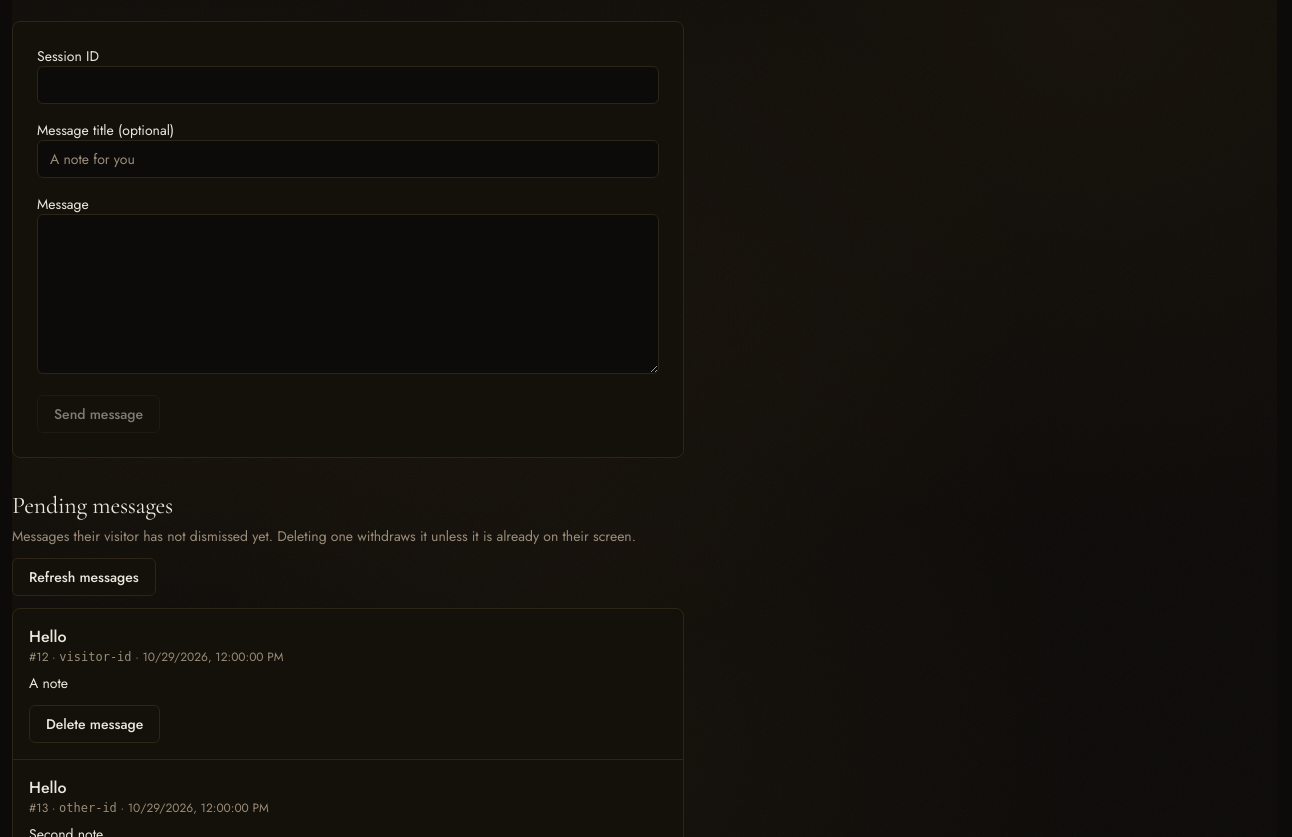
it: lists pending messages and deletes one after confirmation
Click the button "Delete message" at (95, 724), box [29,705,160,743]
(page scrolled)
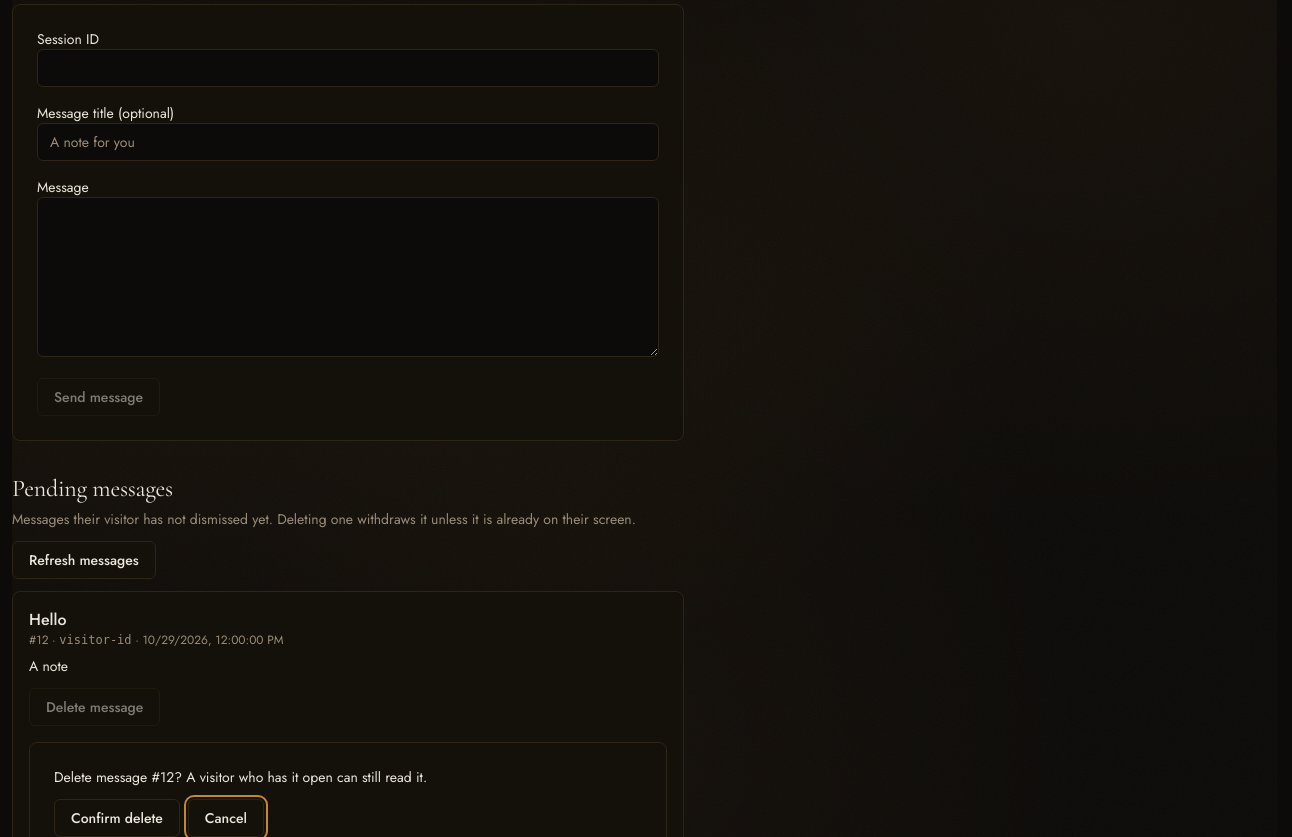
Click the button "Cancel" at (226, 818), box [188,799,264,836]
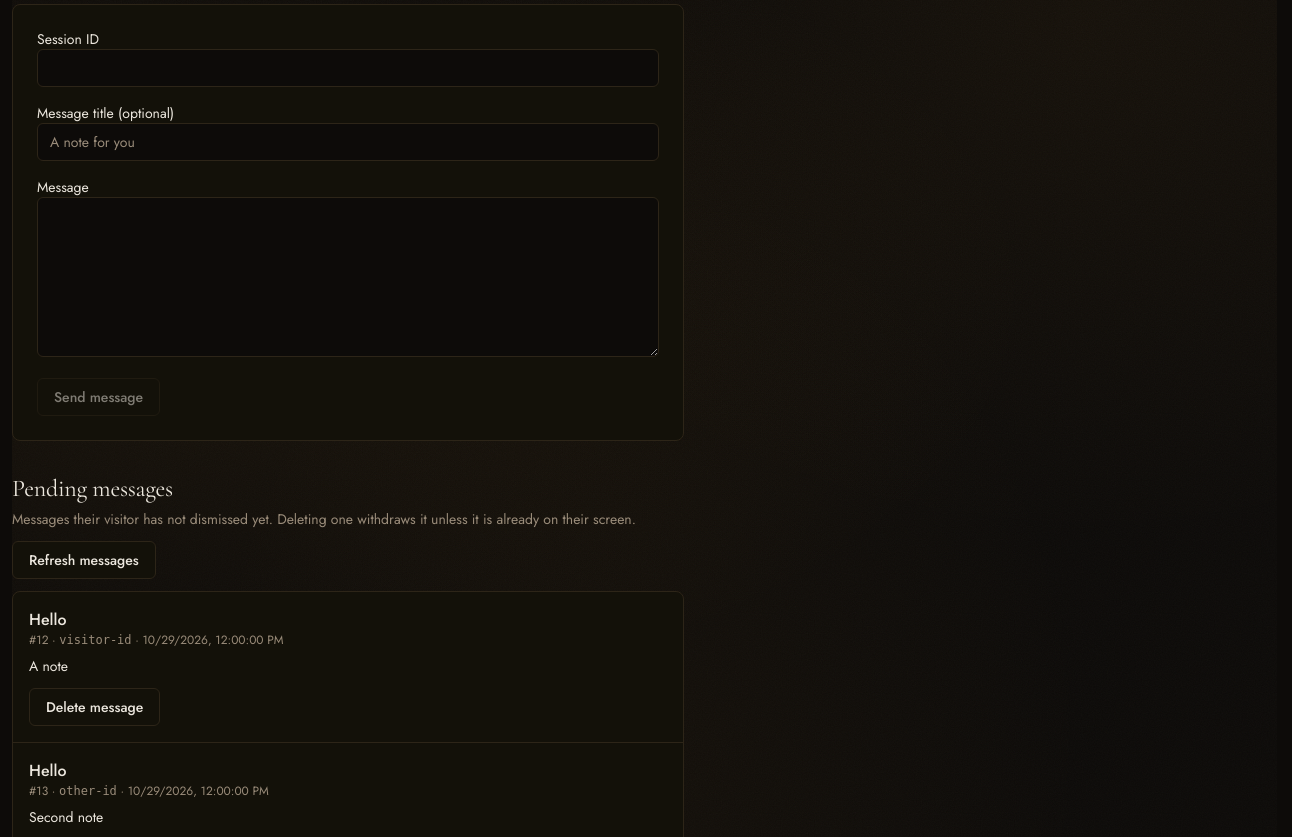
Click the button "Delete message" at (95, 707), box [29,688,160,726]
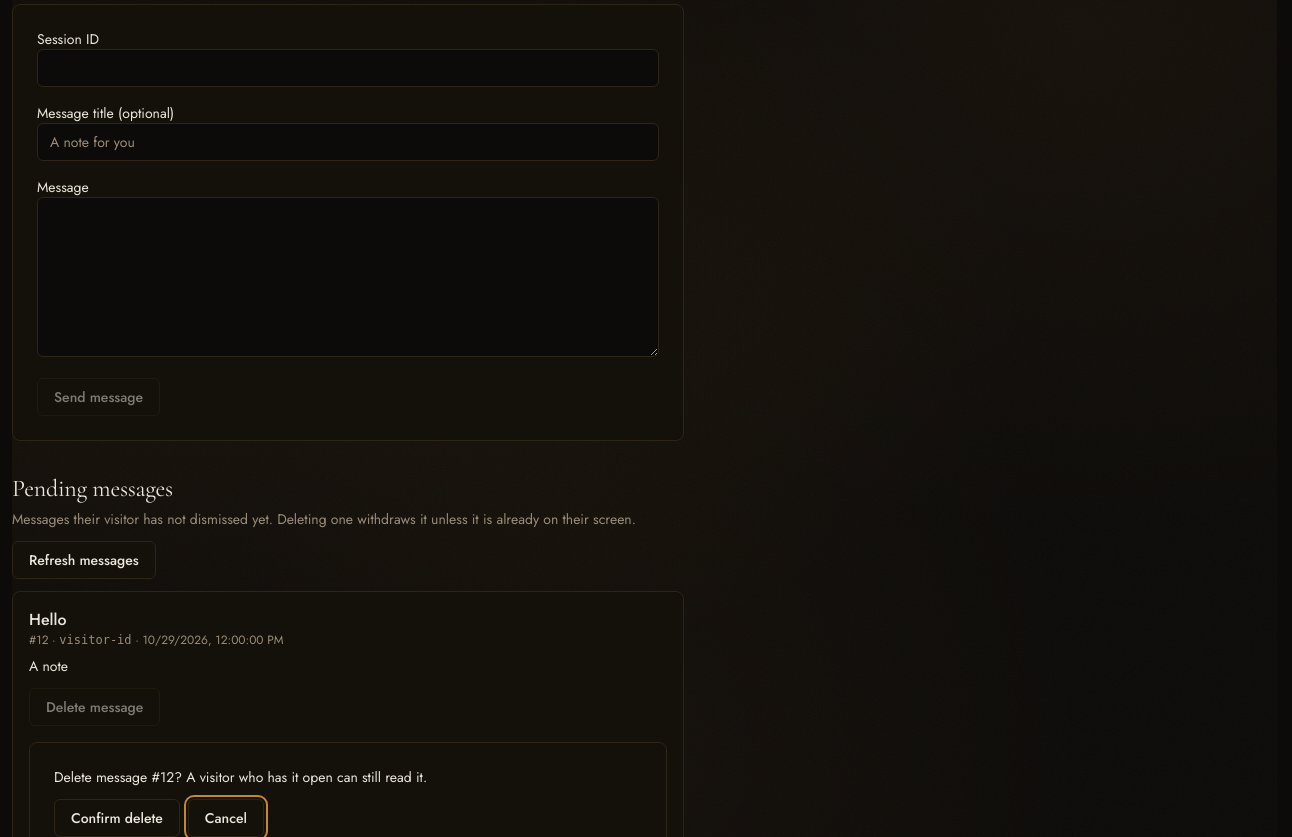
Click the button "Confirm delete" at (117, 818), box [54,799,180,836]
(page scrolled)
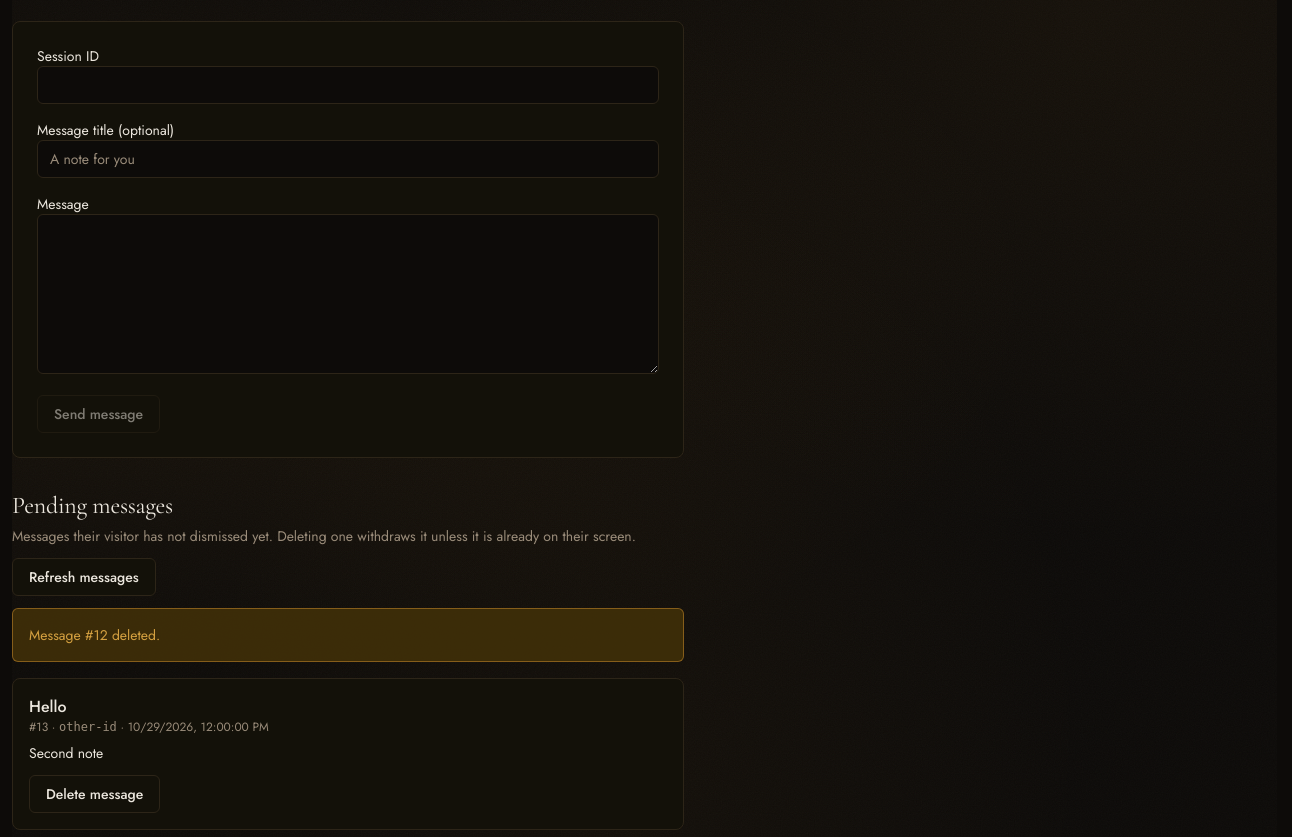
Expected: the text "Second note" is shown, [29,743,103,763]
Expected: the text "Message #12 deleted." is shown, [12,608,684,662]
